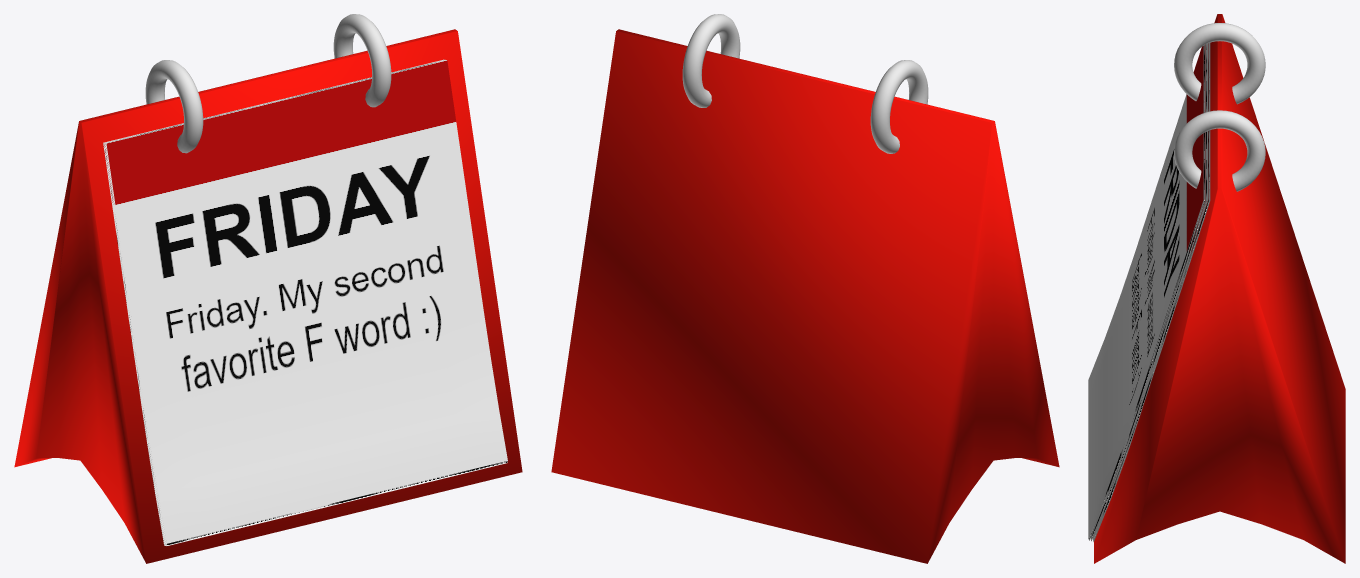
File: Calendar.fbx
3 views of the same model, side by side, from view 1: azimuth 30°, elevation 25°; view 2: azimuth 150°, elevation 25°; view 3: azimuth 270°, elevation 25° (orthographic). The views are drawn at different scales.
Parts seen in each view (by area): view 1: Friday, Calendar, Sunday, Saturday; view 2: Calendar; view 3: Calendar, Friday, Sunday, Saturday.
Part boxes in pixels (x1,y1,x2,y2): Friday: (105,60,507,545); Calendar: (14,14,522,563); Sunday: (103,59,444,545); Saturday: (104,60,445,545); Calendar: (551,14,1059,563); Calendar: (1094,14,1345,563); Friday: (1088,45,1205,540); Sunday: (1093,43,1210,541); Saturday: (1090,43,1207,541).
Bounding box in the file's own units: 200 × 218 × 124.
5 materials, 3 textured.
